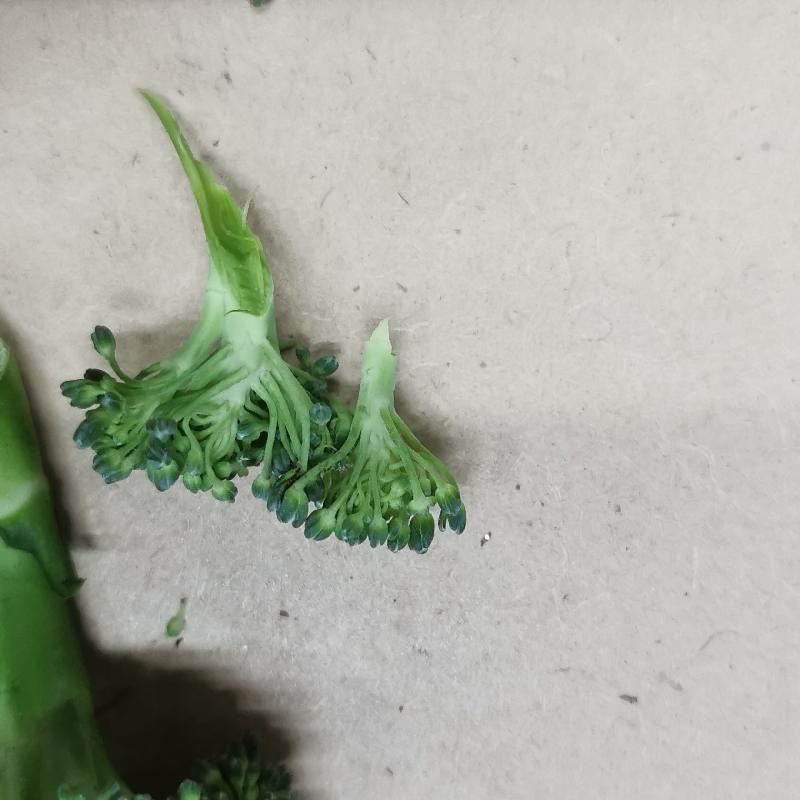broccoli: (61, 85, 485, 563)
